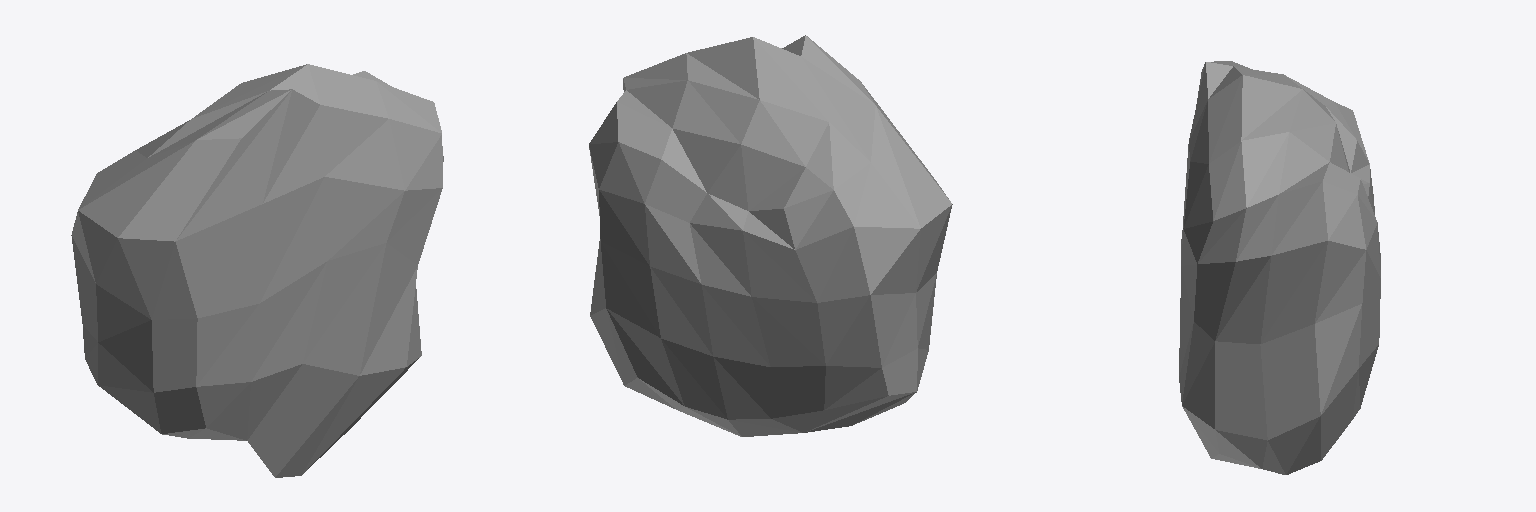
Rendered from rock_small.obj.
3 renders of one model, left to right at view 1: azimuth 30°, elevation 25°; view 2: azimuth 150°, elevation 25°; view 3: azimuth 270°, elevation 25°, orthographic.
Visible parts, largest first — view 1: node1; view 2: node1; view 3: node1.
Boxes of the visible parts, box(x1,y1,x2,y2) form: node1: box(71, 64, 443, 477); node1: box(589, 35, 952, 436); node1: box(1179, 61, 1380, 474).
Size of the model in its own units: 0.3183 by 0.3628 by 0.1684.